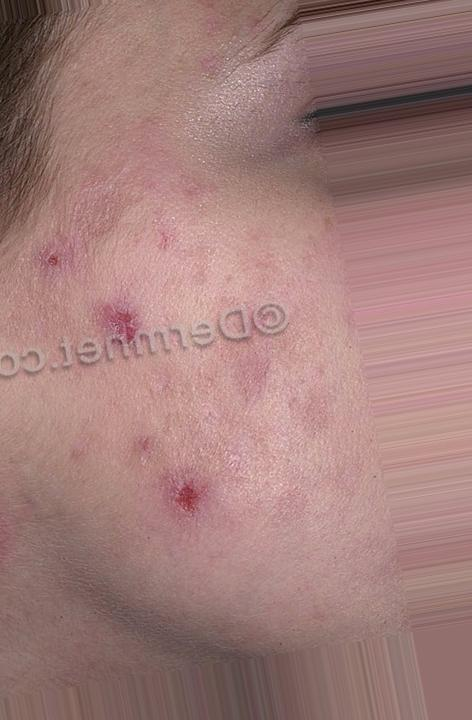Acne: (137, 451, 247, 553), (79, 287, 155, 348), (37, 233, 91, 290)
